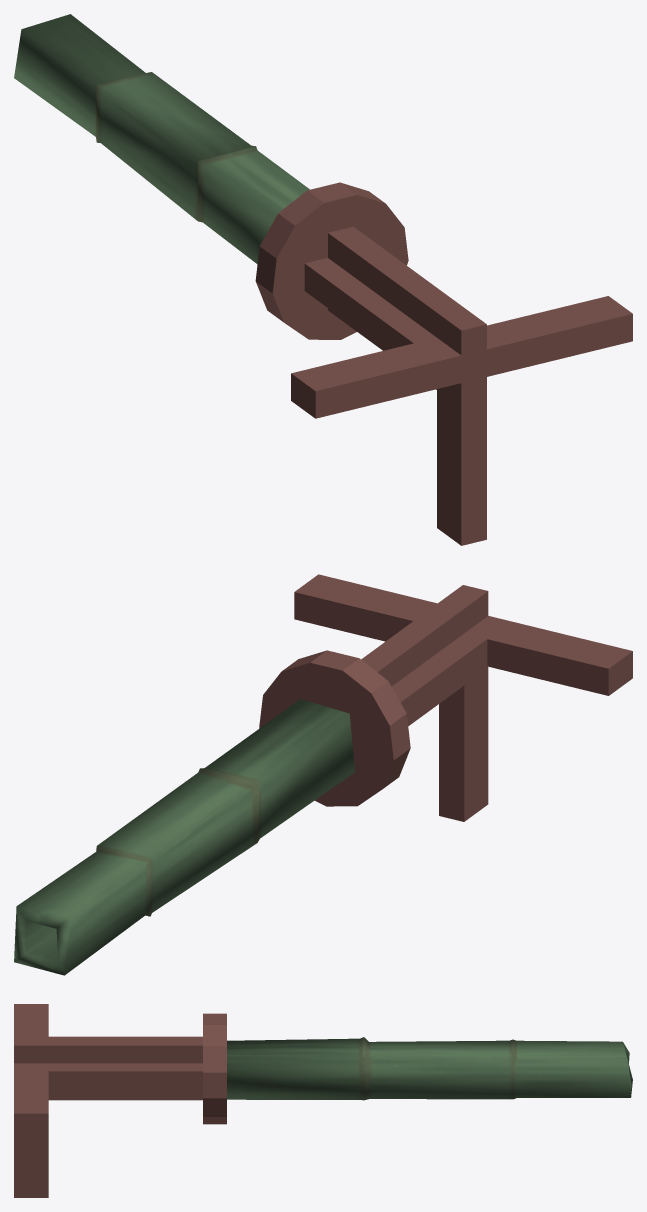
Rendered from bamboo_mid_1.glb.
3 renders of one model, top to bottom at view 1: azimuth 30°, elevation 25°; view 2: azimuth 150°, elevation 25°; view 3: azimuth 270°, elevation 25°, orthographic. The views are drawn at different scales.
Parts seen in each view (by area): view 1: Stand.003, Obstacle.004; view 2: Stand.003, Obstacle.004; view 3: Obstacle.004, Stand.003.
Part boxes in pixels (x1,y1,x2,y2): Stand.003: (255, 182, 632, 545); Obstacle.004: (14, 14, 309, 264); Stand.003: (259, 574, 632, 821); Obstacle.004: (14, 699, 354, 975); Obstacle.004: (227, 1037, 632, 1100); Stand.003: (14, 1004, 226, 1197).
Bounding box in the file's own units: 1.09 × 0.8107 × 2.61.
2 materials, 1 textured.
